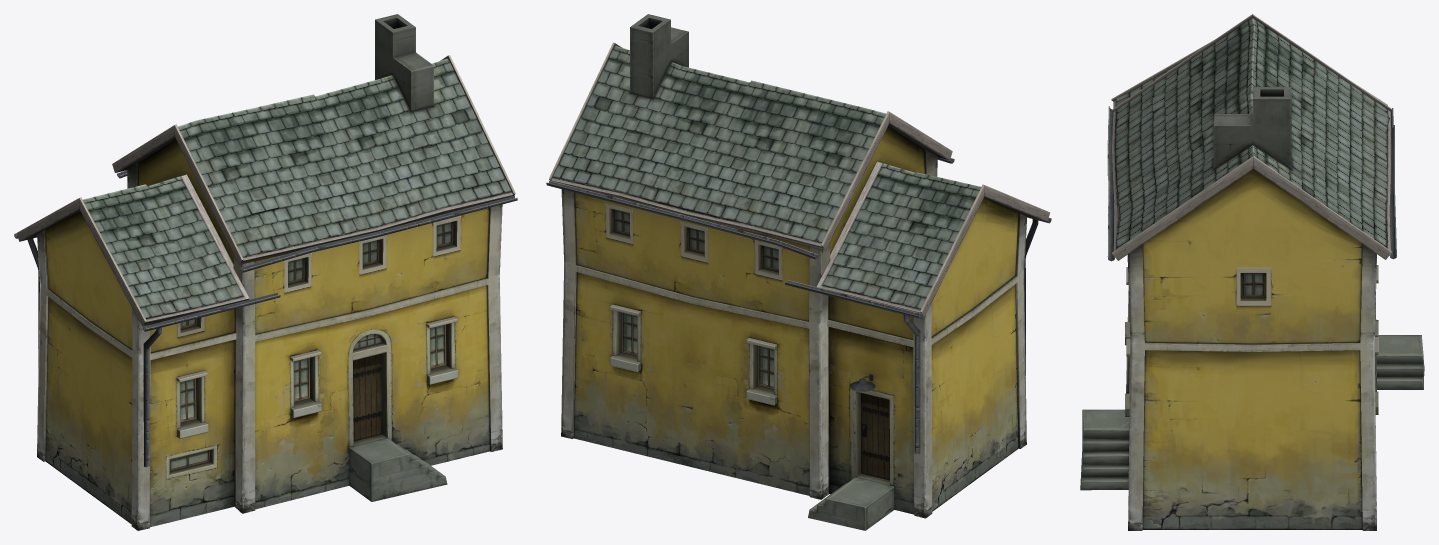
The model's file is townhousesmall1.fbx.
The picture shows the model from 3 angles, left to right: view 1: azimuth 30°, elevation 25°; view 2: azimuth 150°, elevation 25°; view 3: azimuth 270°, elevation 25°; orthographic projection. The views are drawn at different scales.
Visible parts, largest first — view 1: GEOM0_LOD0; view 2: GEOM0_LOD0; view 3: GEOM0_LOD0.
Boxes of the visible parts, box(x1,y1,x2,y2) form: GEOM0_LOD0: box(14, 14, 517, 530); GEOM0_LOD0: box(546, 14, 1051, 530); GEOM0_LOD0: box(1080, 14, 1424, 530).
Size of what is drawn, in the model's own units: 962 by 959 by 718.
